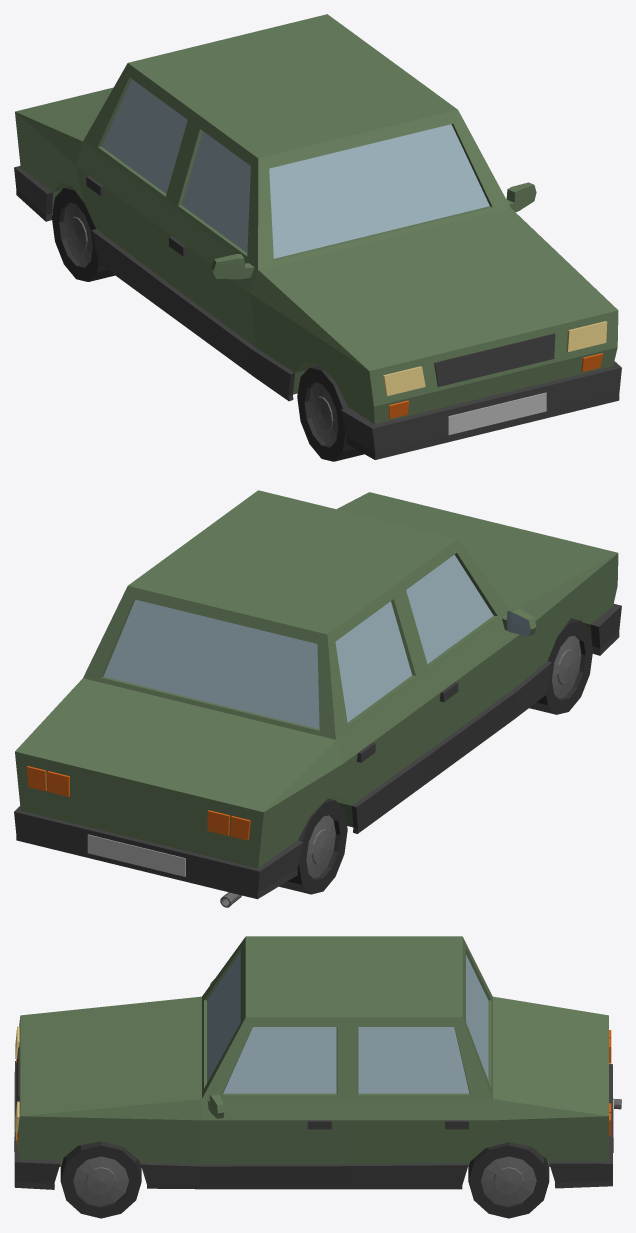
Rendered from car-2.fbx.
3 views of the same model, one above another, from view 1: azimuth 30°, elevation 25°; view 2: azimuth 150°, elevation 25°; view 3: azimuth 270°, elevation 25° (orthographic). The views are drawn at different scales.
Visible parts, largest first — view 1: Car2, Car2Wheel-FR, Car2Wheel-RR; view 2: Car2, Car2Wheel-RR, Car2Wheel-FR; view 3: Car2, Car2Wheel-FL, Car2Wheel-RL.
Part boxes in pixels (<box>): Car2: <box>14,14,621,459</box>; Car2Wheel-FR: <box>297,365,363,461</box>; Car2Wheel-RR: <box>51,186,114,281</box>; Car2: <box>14,490,621,907</box>; Car2Wheel-RR: <box>279,798,347,894</box>; Car2Wheel-FR: <box>529,618,592,714</box>; Car2: <box>14,936,621,1189</box>; Car2Wheel-FL: <box>60,1141,141,1218</box>; Car2Wheel-RL: <box>468,1142,549,1218</box>.
Size of the model in its own units: 213 by 145 by 418.
